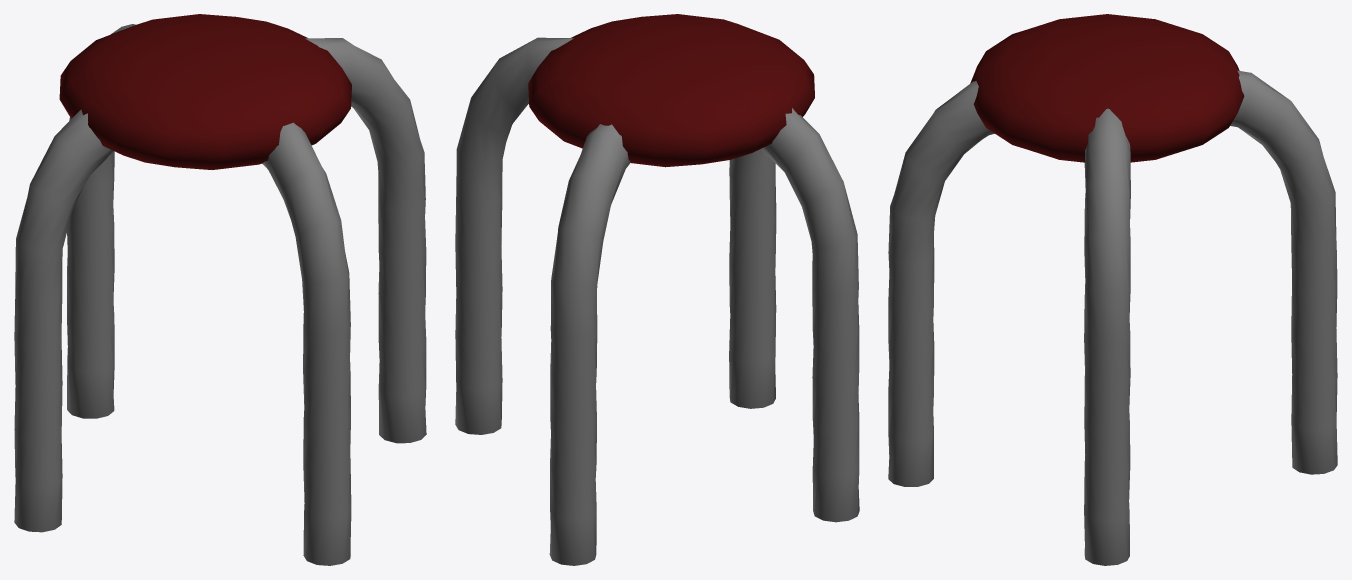
File: kitchen stool.fbx
3 renders of one model, left to right at view 1: azimuth 30°, elevation 25°; view 2: azimuth 150°, elevation 25°; view 3: azimuth 270°, elevation 25°, orthographic. The views are drawn at different scales.
Visible parts, largest first — view 1: polySurface584; view 2: polySurface584; view 3: polySurface584.
Part boxes in pixels (left/top/right/bottom): polySurface584: left=14, top=14, right=426, bottom=565; polySurface584: left=455, top=14, right=859, bottom=565; polySurface584: left=888, top=14, right=1337, bottom=565.
Bounding box in the file's own units: 0.6754 × 0.6994 × 0.6735.
Materials: 1 (1 with a texture image).
